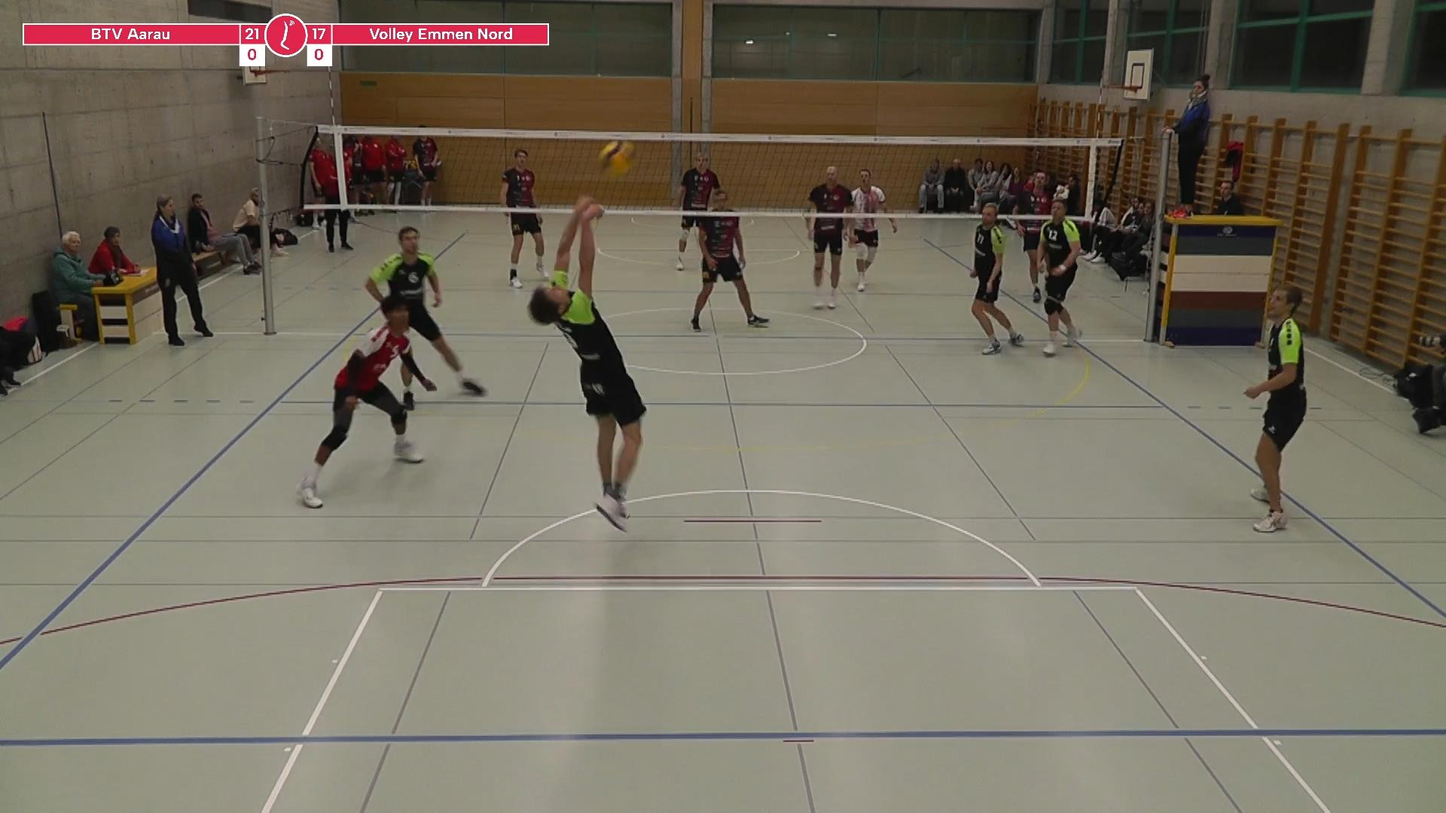Dig: (524, 197, 655, 535)
Player: (299, 294, 435, 507), (365, 227, 485, 395), (1245, 287, 1307, 532), (691, 216, 769, 331), (971, 202, 1023, 355), (805, 166, 852, 309), (1039, 200, 1081, 355), (676, 153, 720, 270), (850, 169, 889, 292), (505, 212, 545, 288)
ball: (599, 137, 638, 182)
